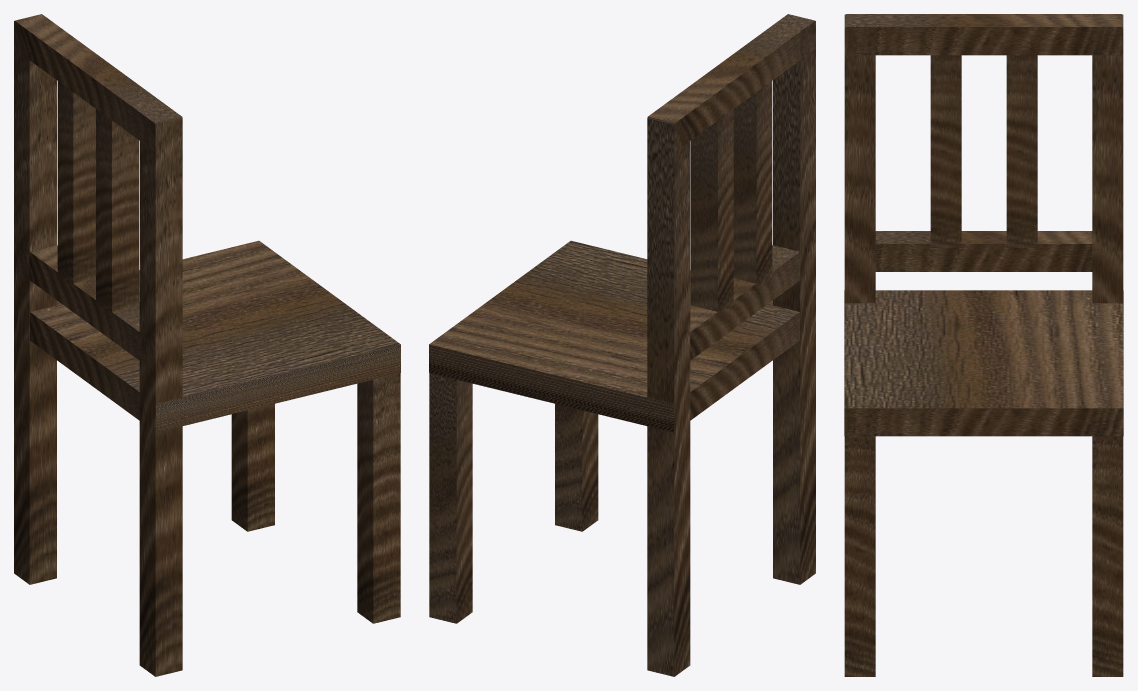
File: chair.fbx
The picture shows the model from 3 angles, left to right: view 1: azimuth 30°, elevation 25°; view 2: azimuth 150°, elevation 25°; view 3: azimuth 270°, elevation 25°; orthographic projection.
Parts seen in each view (by area): view 1: pCube15; view 2: pCube15; view 3: pCube15.
Part boxes in pixels (bbox=[...]): pCube15: bbox=[14, 14, 400, 676]; pCube15: bbox=[429, 14, 815, 676]; pCube15: bbox=[844, 14, 1123, 676].
Bounding box in the file's own units: 4.51 × 9.71 × 4.51.
Materials: 1 (1 with a texture image).
